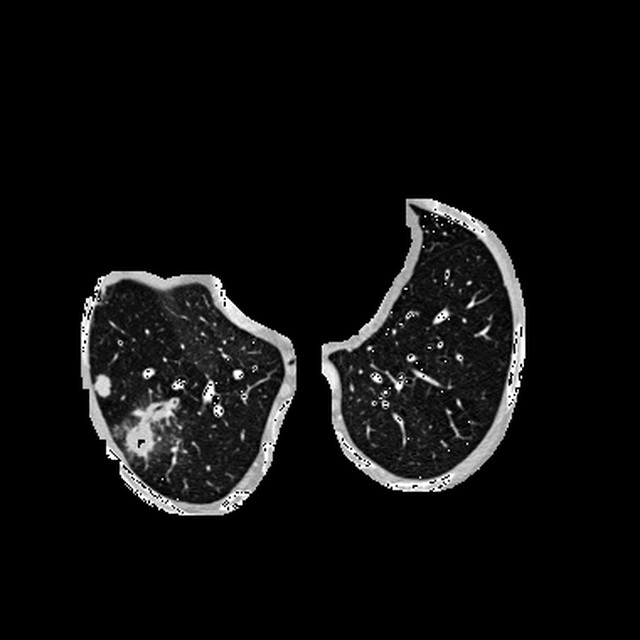PN: (126, 421, 157, 451)
